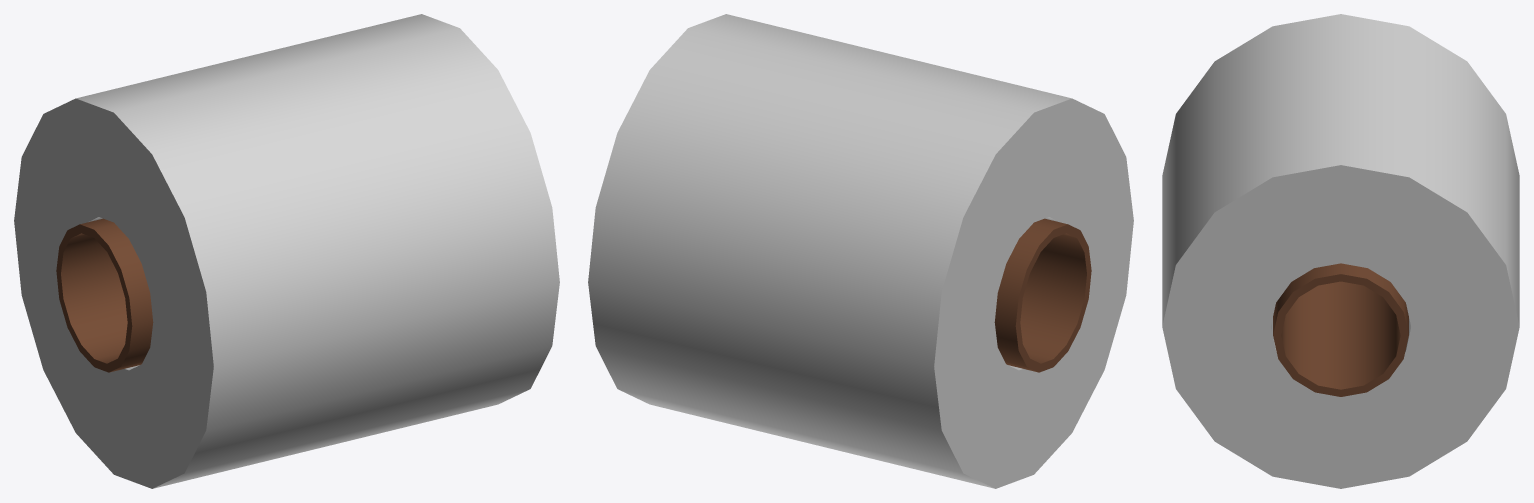
The model's file is PapelHigienico.fbx.
3 renders of one model, left to right at view 1: azimuth 30°, elevation 25°; view 2: azimuth 150°, elevation 25°; view 3: azimuth 270°, elevation 25°, orthographic. The views are drawn at different scales.
Visible parts, largest first — view 1: Papel, ParteMarrom; view 2: Papel, ParteMarrom; view 3: Papel, ParteMarrom.
Part boxes in pixels (x1,y1,x2,y2): Papel: [14, 14, 559, 488]; ParteMarrom: [56, 218, 153, 372]; Papel: [588, 14, 1133, 488]; ParteMarrom: [994, 218, 1091, 372]; Papel: [1162, 14, 1519, 488]; ParteMarrom: [1273, 263, 1408, 396].
Size of the model in its own units: 223 by 200 by 200.
